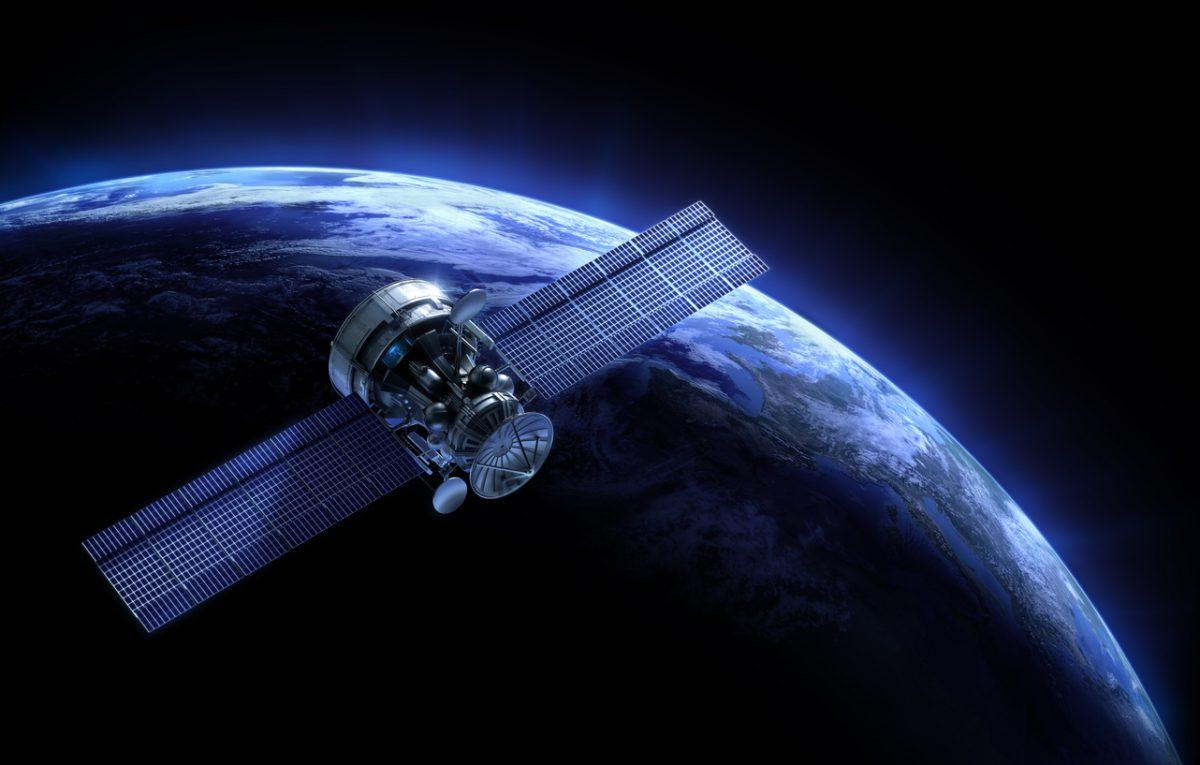antenna: (467, 410, 557, 502), (447, 287, 490, 328), (431, 475, 469, 516)
body: (325, 276, 526, 480)
solar: (78, 389, 427, 638), (475, 196, 774, 403)
